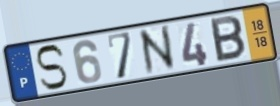4: (180, 19, 211, 68)
6: (70, 38, 103, 85)
7: (106, 30, 133, 81)
B: (208, 14, 247, 64)
N: (136, 23, 179, 78)
S: (34, 42, 70, 92)
